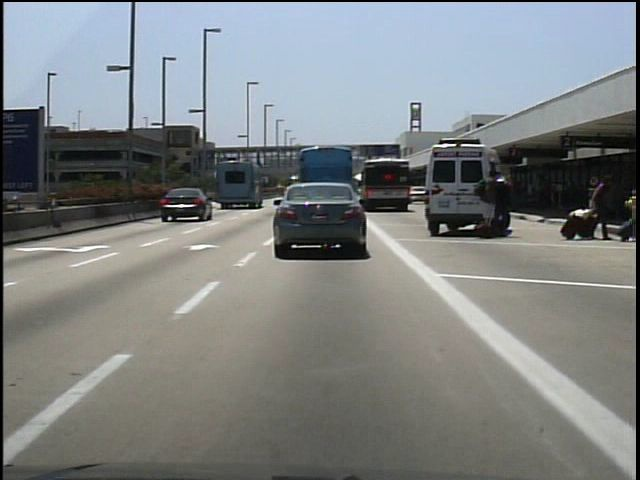person: (588, 167, 616, 244), (476, 168, 501, 239), (495, 174, 514, 237)
